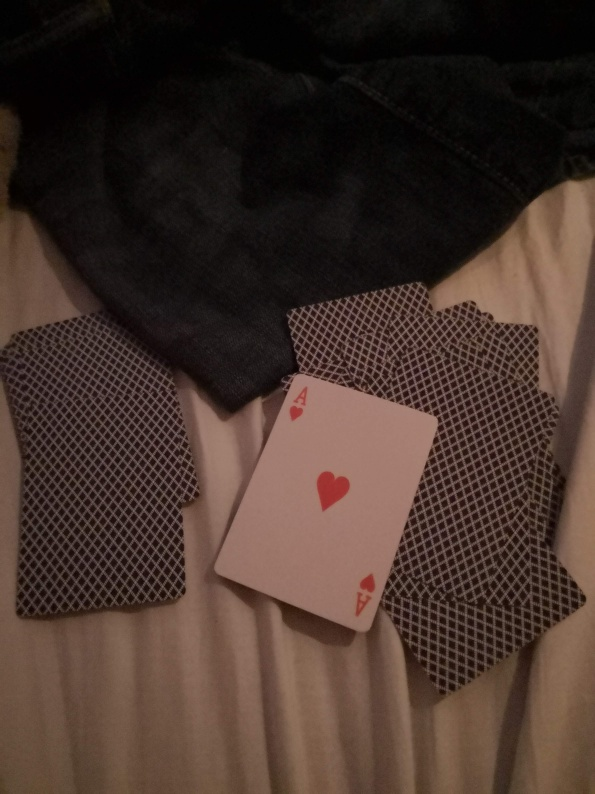ace: (210, 371, 440, 635)
